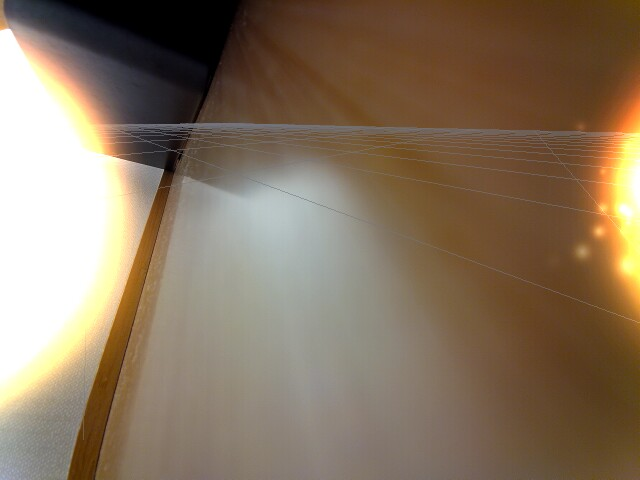fire: (0, 40, 148, 410), (599, 99, 639, 311)
